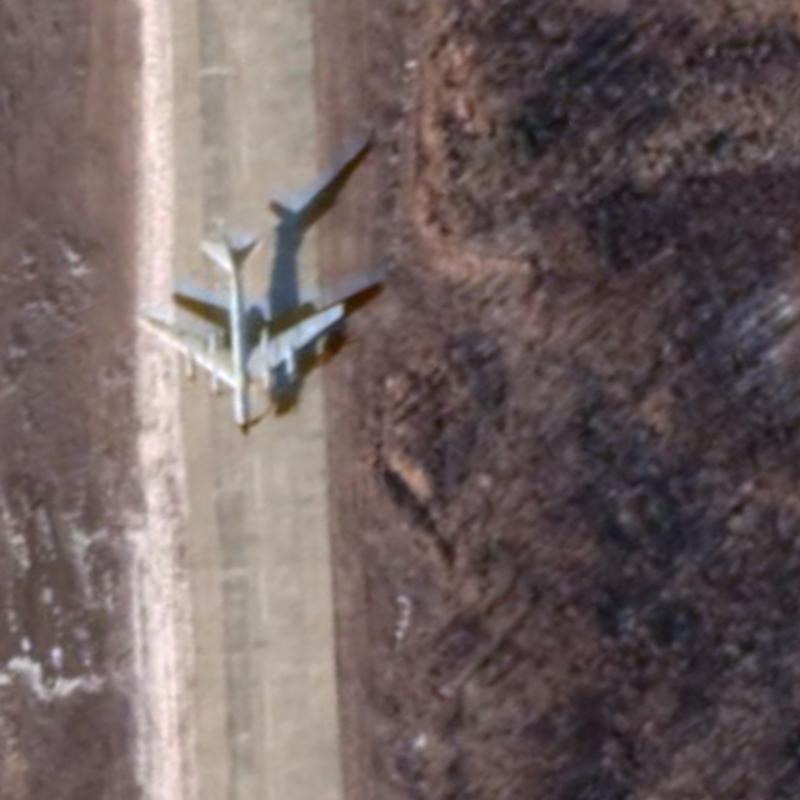A17: (127, 227, 348, 439)
